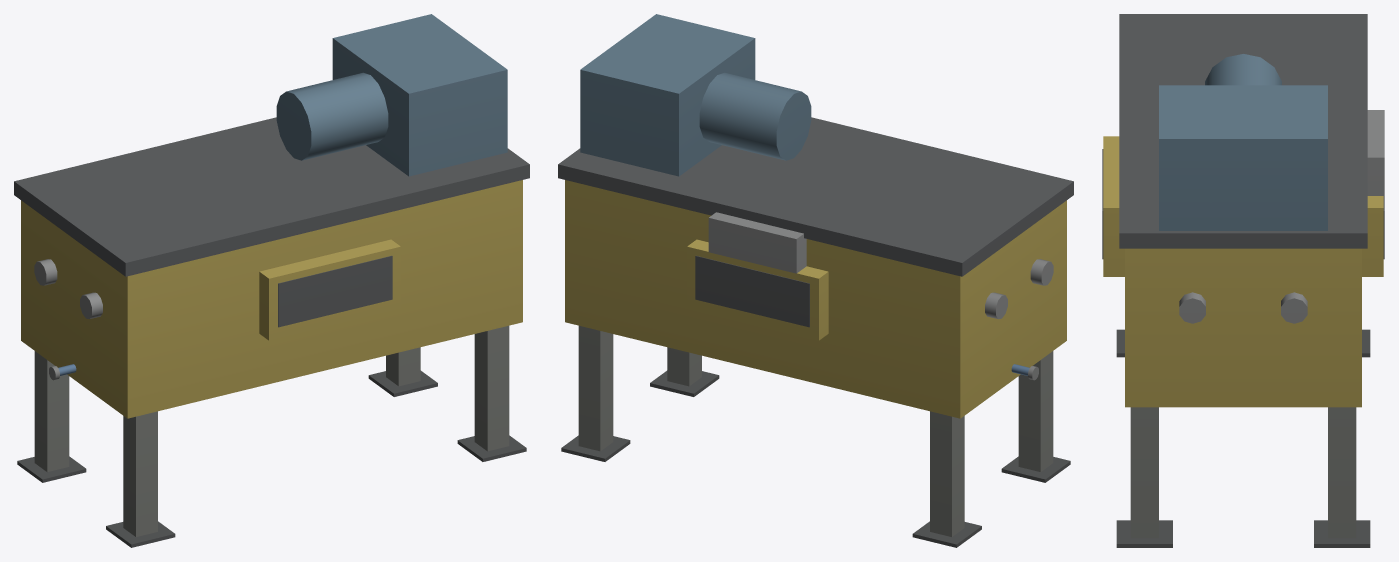
File: mcMixer_steel.glb
3 renders of one model, left to right at view 1: azimuth 30°, elevation 25°; view 2: azimuth 150°, elevation 25°; view 3: azimuth 270°, elevation 25°, orthographic. The views are drawn at different scales.
Parts seen in each view (by area): view 1: mcMixer_steel; view 2: mcMixer_steel; view 3: mcMixer_steel.
Boxes of the visible parts, x1,y1,x2,y2 form: mcMixer_steel: (14, 14, 529, 547); mcMixer_steel: (558, 14, 1073, 547); mcMixer_steel: (1102, 14, 1384, 547).
Size of the model in its own units: 1.95 by 1.6 by 1.
